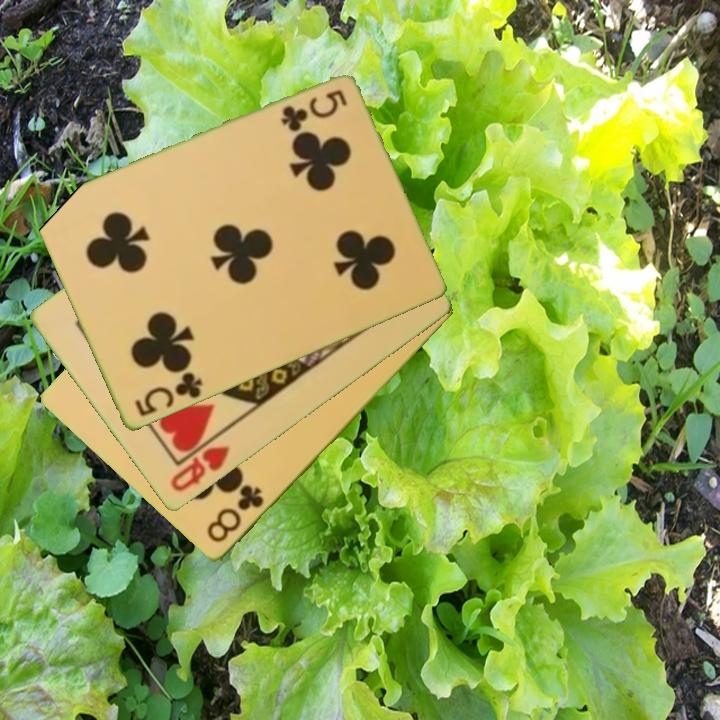5c: (131, 369, 205, 420), (277, 86, 350, 135)
8c: (203, 481, 267, 546)
Qh: (167, 443, 233, 496)
